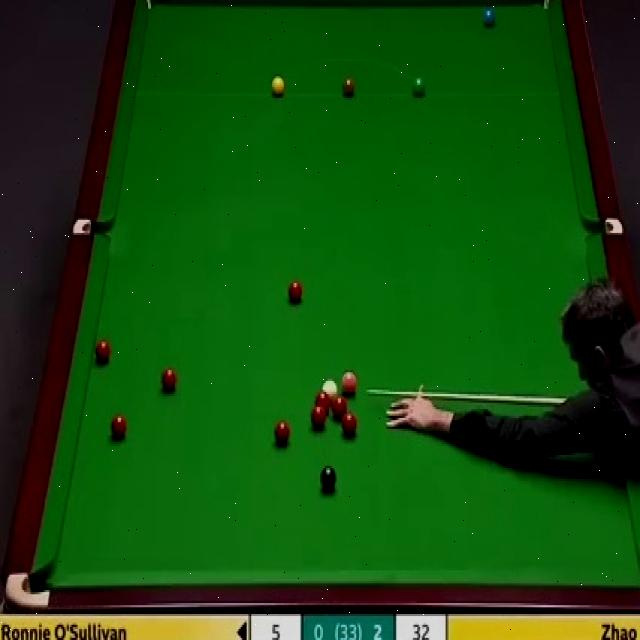black-ball: (320, 465, 338, 494)
blue-ball: (481, 2, 498, 29)
brown-ball: (342, 78, 356, 100)
green-ball: (412, 76, 426, 100)
pink-ball: (338, 371, 358, 397)
red-ball: (110, 413, 128, 443), (160, 367, 178, 393), (287, 278, 304, 305), (310, 406, 327, 431), (94, 339, 110, 365), (314, 391, 332, 414), (275, 420, 290, 447), (342, 411, 358, 436), (335, 394, 352, 416)
white-ball: (319, 376, 341, 402)
yellow-ball: (271, 75, 286, 98)
